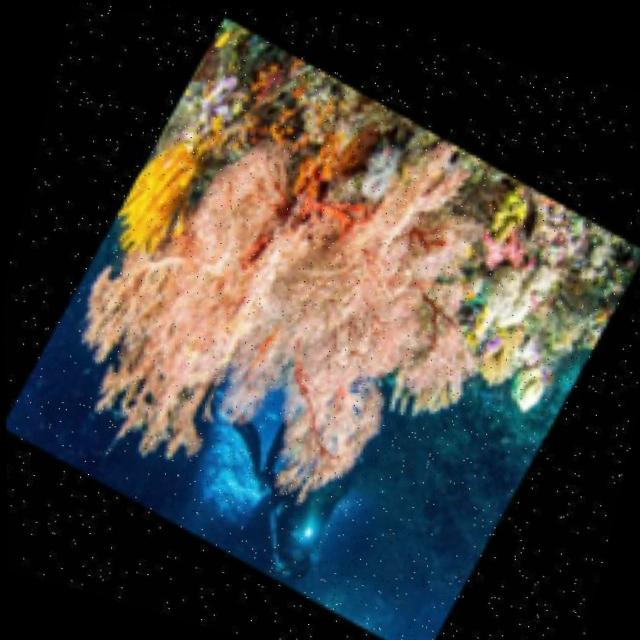Healthy Coral: (57, 93, 541, 534), (72, 72, 251, 296)
